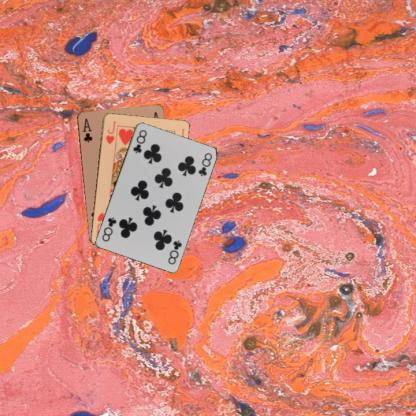8c: (130, 127, 148, 155), (165, 238, 183, 265)
Ac: (80, 115, 94, 144)
Jh: (103, 118, 117, 145)
